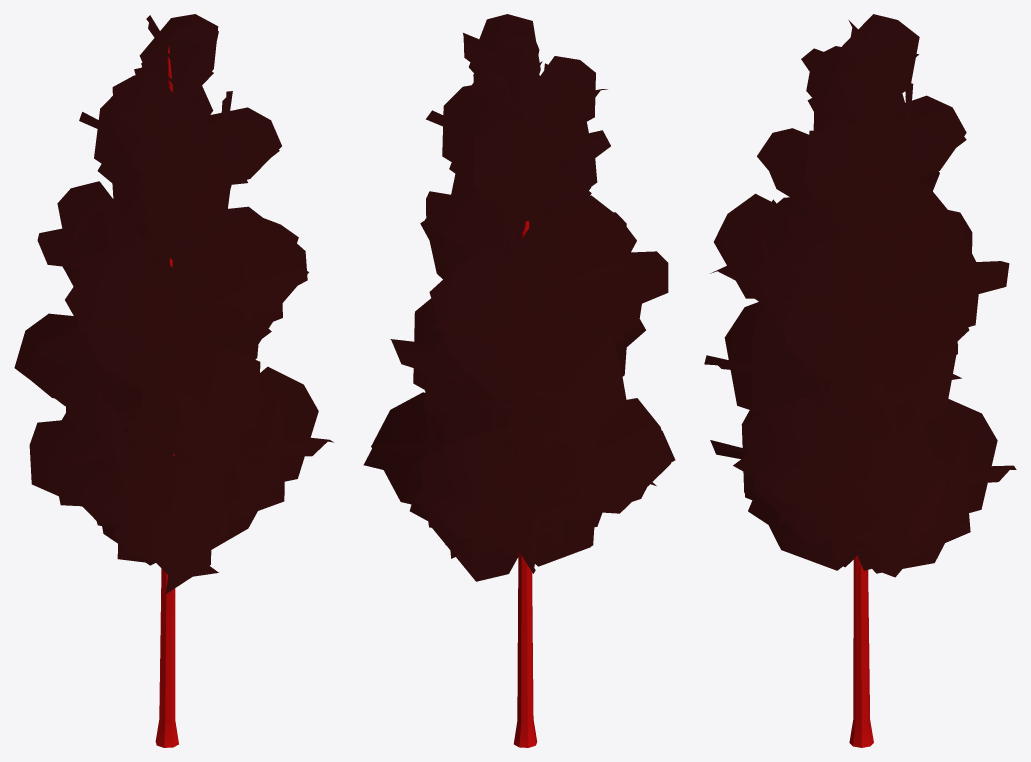
Rendered from SM_Tree_Birch_03.fbx.
3 views of the same model, side by side, from view 1: azimuth 30°, elevation 25°; view 2: azimuth 150°, elevation 25°; view 3: azimuth 270°, elevation 25° (orthographic).
Parts seen in each view (by area): view 1: SM_Tree_Birch_03; view 2: SM_Tree_Birch_03; view 3: SM_Tree_Birch_03.
Boxes of the visible parts, x1,y1,x2,y2 form: SM_Tree_Birch_03: [14, 14, 333, 747]; SM_Tree_Birch_03: [363, 14, 675, 747]; SM_Tree_Birch_03: [704, 14, 1016, 747].
Size of the model in its own units: 214 by 540 by 211.
